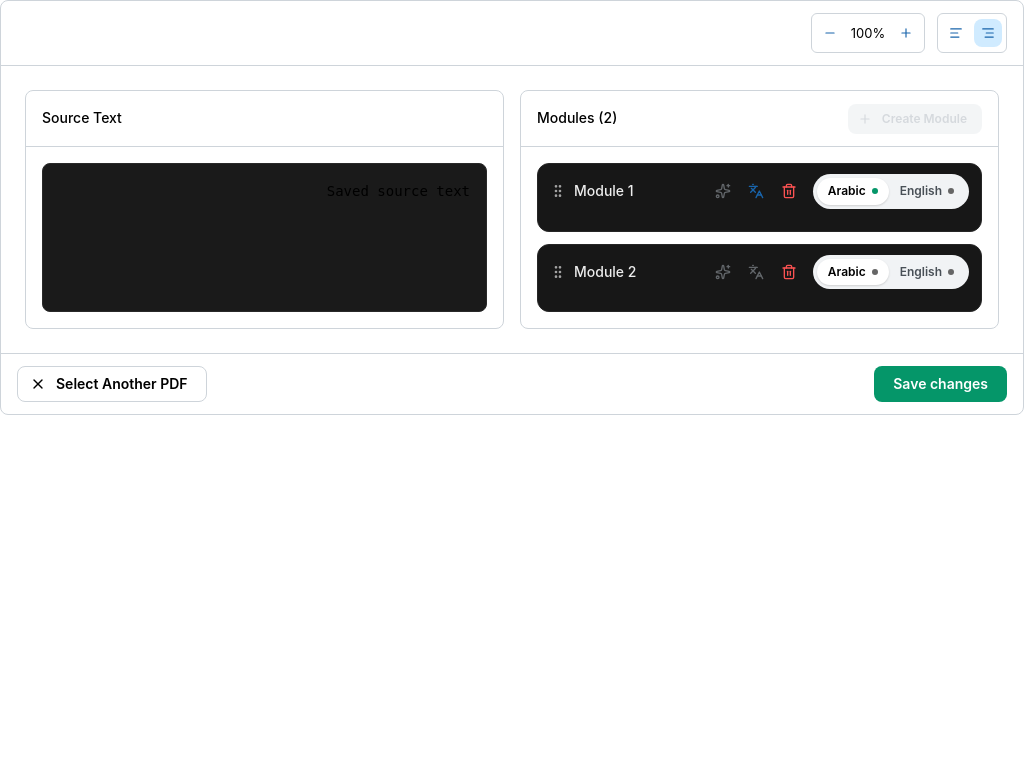
Test: SavedSourceView › Delete › leaves the entry in place and shows an error when the delete request fails
Click the button named "Delete Module 1": coordinates (789, 191) [775,177,803,205]
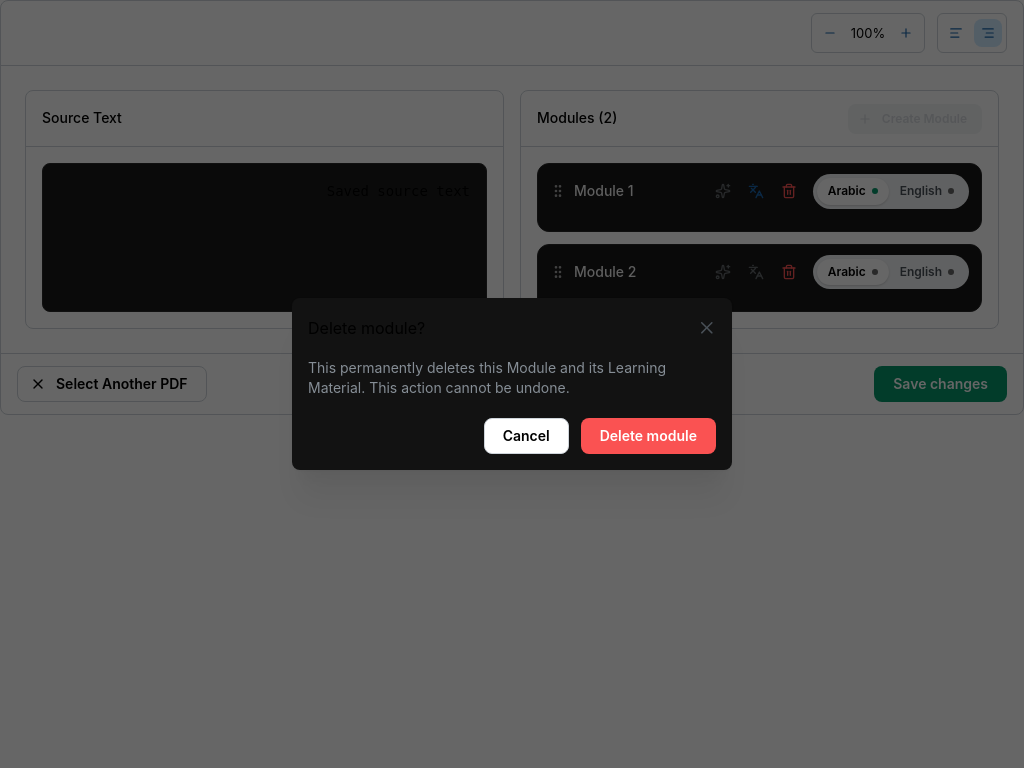
Click the button "Delete module": coordinates (648, 436) [581,418,716,454]
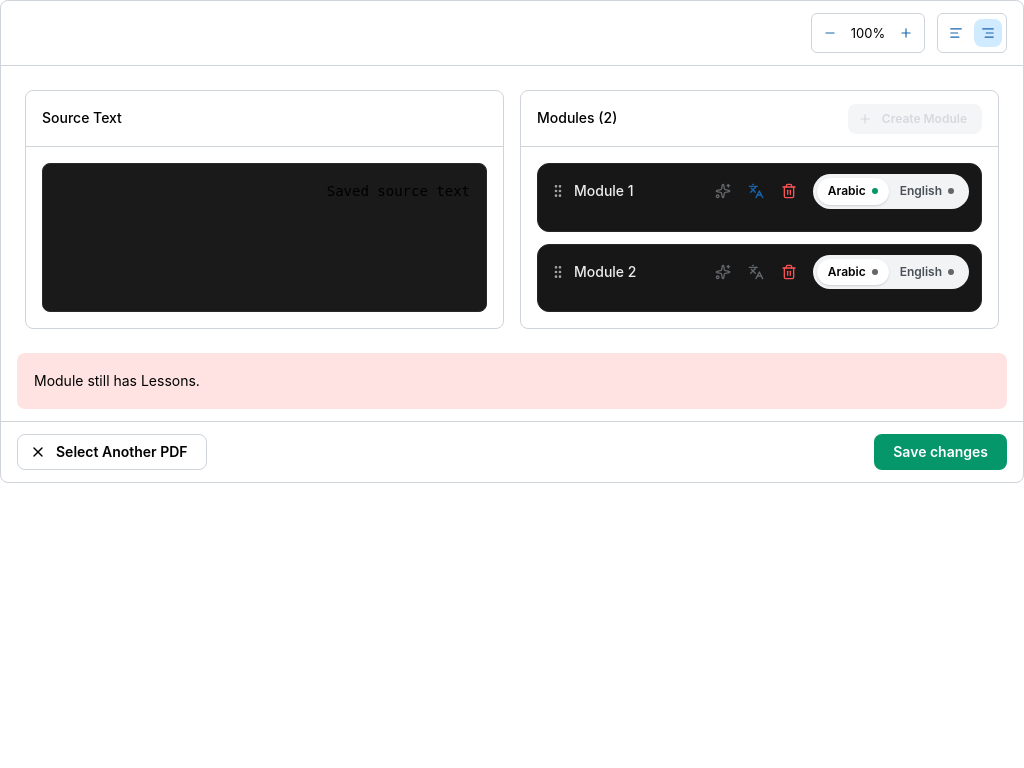
Check: the button "Module 1" is shown, box [574,170,709,212]
Check: the text "Module still has Lessons." is shown, box [34,372,200,389]
